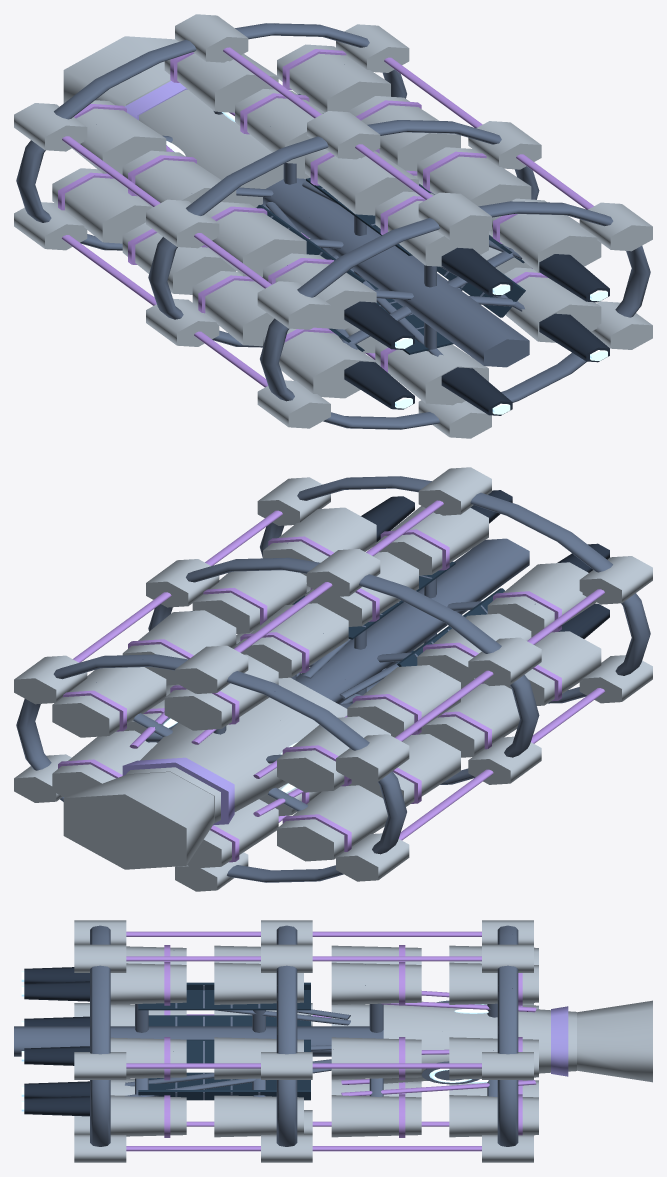
Rendered from cryogenic_hydrocarbon--colony_ship.glb.
3 renders of one model, top to bottom at view 1: azimuth 30°, elevation 25°; view 2: azimuth 150°, elevation 25°; view 3: azimuth 270°, elevation 25°, orthographic. The views are drawn at different scales.
Visible parts, largest first — view 1: thermal_isolation_spine_1, ark_hexaframe_161, cold_habitat_lantern_2, ark_hexaframe_147, ark_hexaframe_154, insulated_habitat_lantern_78, insulated_habitat_lantern_87, insulated_habitat_lantern_132, insulated_habitat_lantern_141, insulated_habitat_lantern_126, forward_ice_cap_3, insulated_habitat_lantern_111 (+40 smaller); view 2: forward_ice_cap_3, cold_habitat_lantern_2, thermal_isolation_spine_1, ark_hexaframe_147, ark_hexaframe_161, ark_hexaframe_154, insulated_habitat_lantern_87, insulated_habitat_lantern_78, insulated_habitat_lantern_108, insulated_habitat_lantern_93, insulated_habitat_lantern_114, insulated_habitat_lantern_144 (+35 smaller); view 3: cold_habitat_lantern_2, forward_ice_cap_3, thermal_isolation_spine_1, ark_hexaframe_147, ark_hexaframe_154, ark_hexaframe_161, insulated_habitat_lantern_93, insulated_habitat_lantern_99, insulated_habitat_lantern_96, insulated_habitat_lantern_135, insulated_habitat_lantern_117, insulated_habitat_lantern_129 (+51 smaller).
Part boxes in pixels (x1,y1,x2,y2): thermal_isolation_spine_1: [263, 178, 529, 367]; ark_hexaframe_161: [260, 201, 650, 429]; cold_habitat_lantern_2: [126, 80, 310, 207]; ark_hexaframe_147: [16, 23, 406, 250]; ark_hexaframe_154: [148, 120, 539, 347]; insulated_habitat_lantern_78: [277, 44, 390, 112]; insulated_habitat_lantern_87: [52, 168, 151, 243]; insulated_habitat_lantern_132: [489, 198, 601, 272]; insulated_habitat_lantern_141: [263, 328, 376, 398]; insulated_habitat_lantern_126: [206, 202, 306, 277]; forward_ice_cap_3: [63, 36, 178, 106]; insulated_habitat_lantern_111: [305, 149, 418, 215]; forward_ice_cap_3: [63, 772, 214, 869]; cold_habitat_lantern_2: [126, 677, 347, 823]; thermal_isolation_spine_1: [296, 538, 529, 703]; ark_hexaframe_147: [16, 654, 406, 882]; ark_hexaframe_161: [260, 476, 650, 703]; ark_hexaframe_154: [148, 557, 539, 784]; insulated_habitat_lantern_87: [277, 785, 387, 861]; insulated_habitat_lantern_78: [52, 667, 166, 737]; insulated_habitat_lantern_108: [347, 665, 460, 737]; insulated_habitat_lantern_93: [235, 603, 348, 678]; insulated_habitat_lantern_114: [192, 570, 306, 633]; insulated_habitat_lantern_144: [487, 562, 596, 637]; cold_habitat_lantern_2: [383, 1001, 576, 1083]; forward_ice_cap_3: [577, 1000, 652, 1082]; thermal_isolation_spine_1: [14, 1026, 383, 1056]; ark_hexaframe_147: [497, 925, 518, 1146]; ark_hexaframe_154: [276, 925, 297, 1146]; ark_hexaframe_161: [90, 925, 110, 1146]; insulated_habitat_lantern_93: [331, 962, 421, 1004]; insulated_habitat_lantern_99: [331, 1095, 421, 1137]; insulated_habitat_lantern_96: [331, 1037, 421, 1079]; insulated_habitat_lantern_135: [110, 1095, 186, 1136]; insulated_habitat_lantern_117: [214, 1095, 303, 1137]; insulated_habitat_lantern_129: [110, 963, 186, 1004].
Size of the model in its own units: 7600 by 4200 by 13000.
